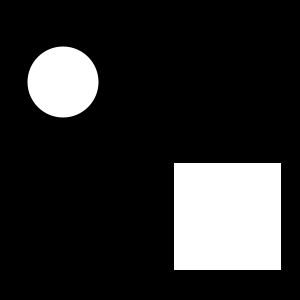circle: (174, 163, 281, 270)
rectangle: (27, 46, 98, 118)
